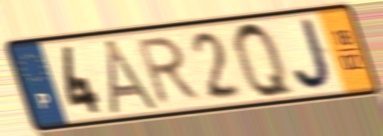2: (190, 28, 246, 104)
4: (62, 43, 102, 117)
A: (102, 37, 165, 117)
J: (290, 15, 337, 93)
Q: (229, 18, 300, 102)
R: (135, 33, 205, 108)
